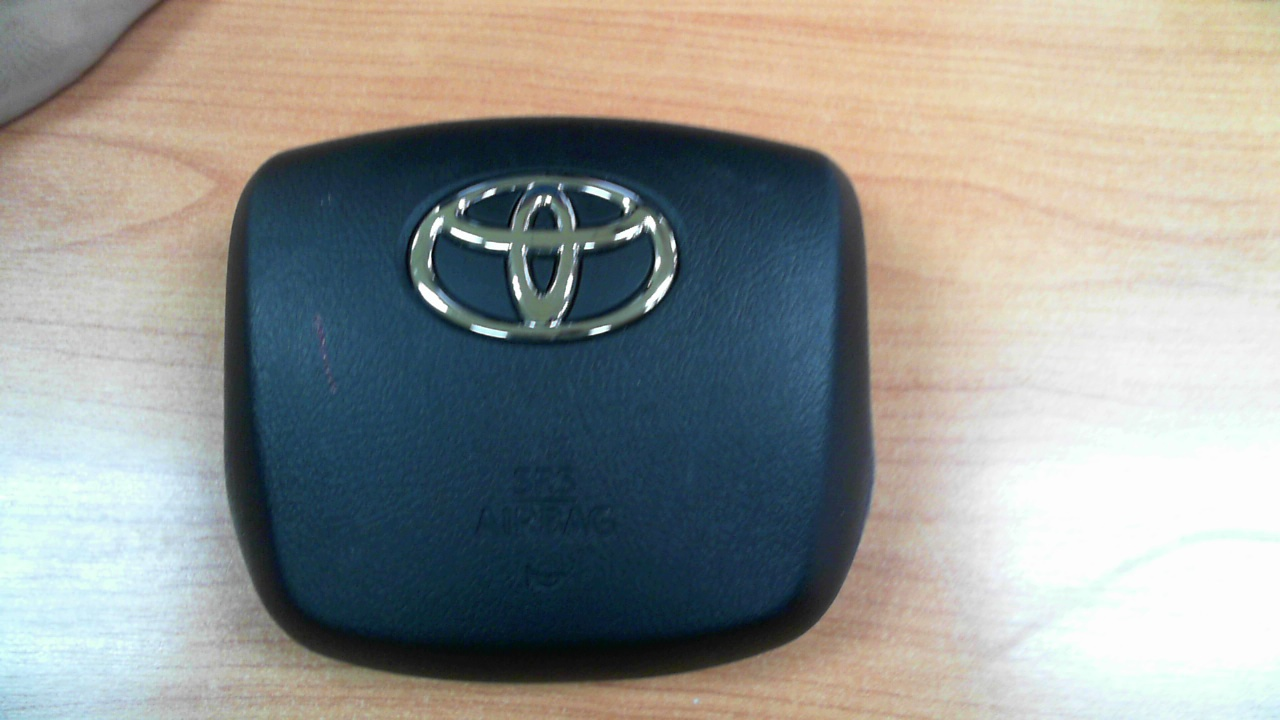Airbag: (221, 117, 875, 686)
Toyota: (409, 175, 678, 341)
